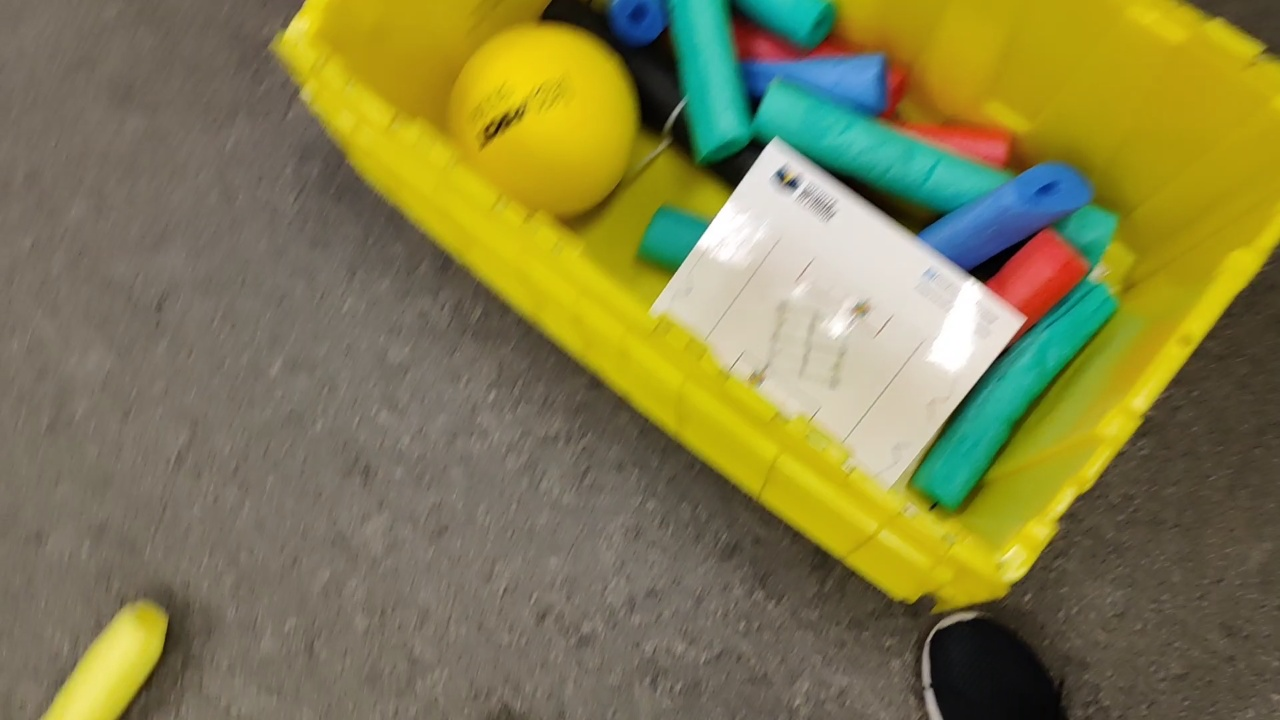Ball: (444, 21, 631, 217)
